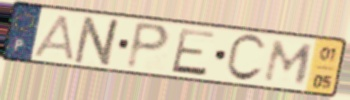A: (31, 13, 76, 63)
C: (222, 33, 268, 84)
E: (169, 27, 219, 78)
M: (260, 38, 317, 86)
N: (70, 14, 125, 69)
P: (123, 19, 173, 72)
